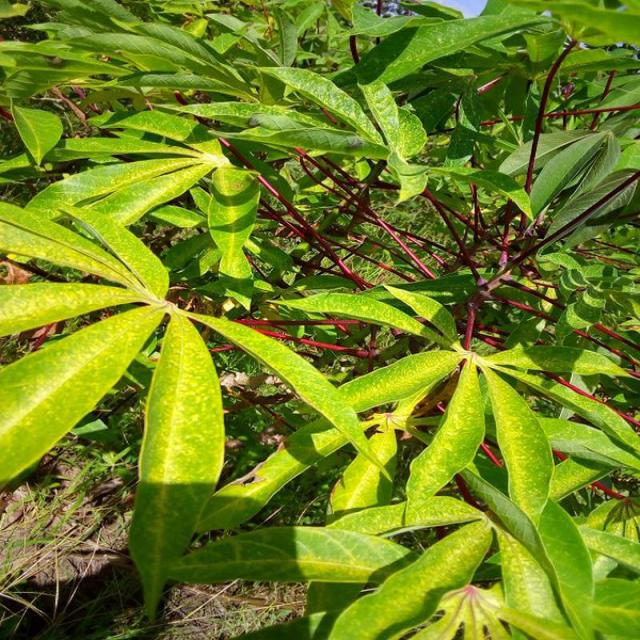cassava leaf: (1, 1, 638, 637), (127, 305, 226, 621)
